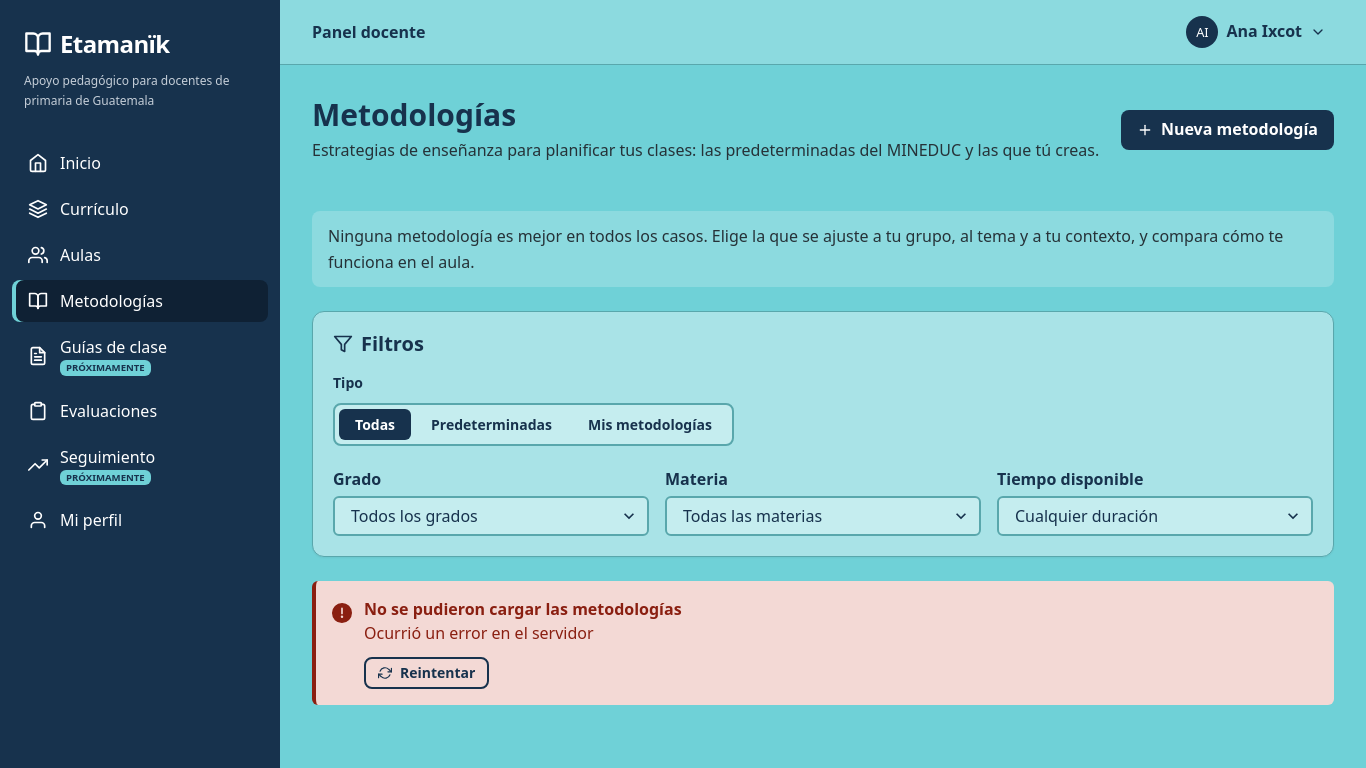
Listado de metodologías › error al cargar: mensaje y reintento
The image size is (1366, 768).
Expected: the text "No se pudieron cargar las metodologías" is shown, [364,598,682,620]
Click the button "Reintentar" at (427, 673), box [364,657,489,689]
(page scrolled)
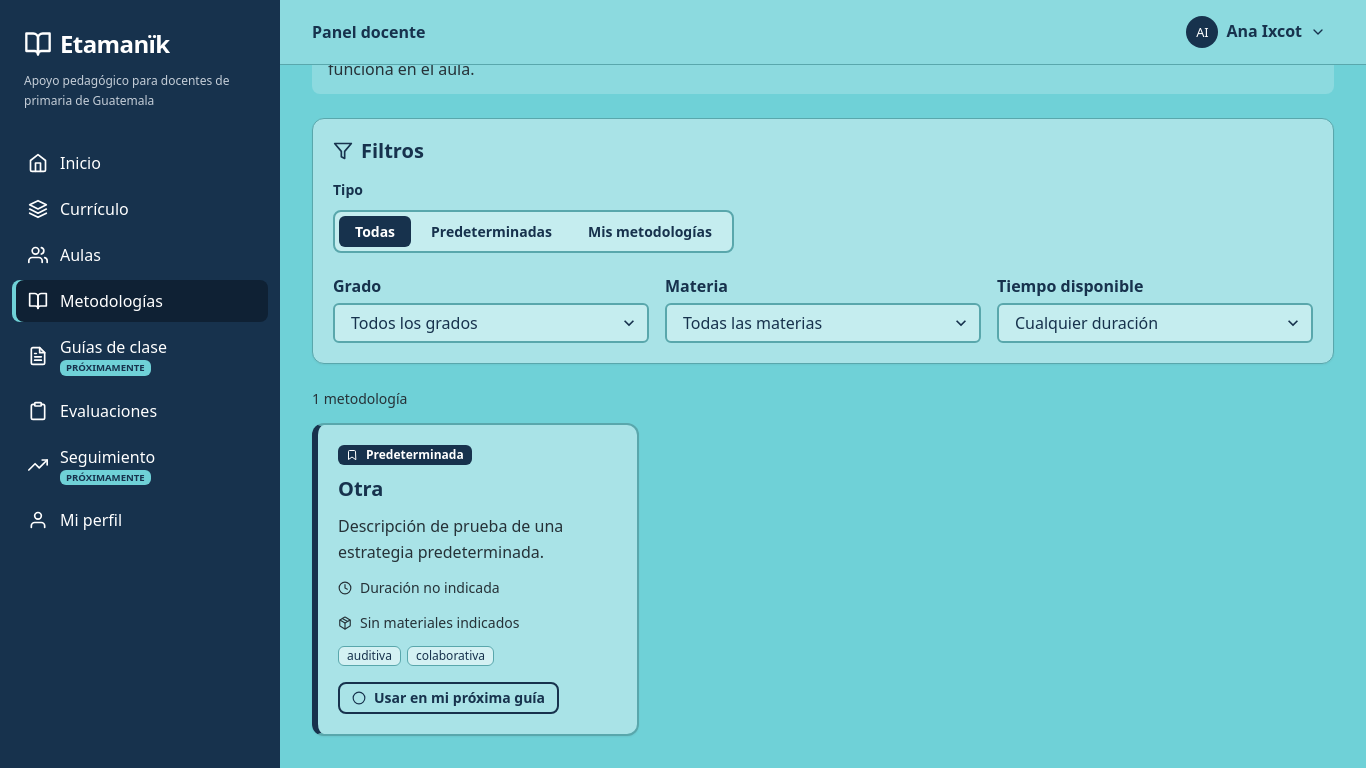
Now the element "Otra" is shown, box [312,423,639,736]
